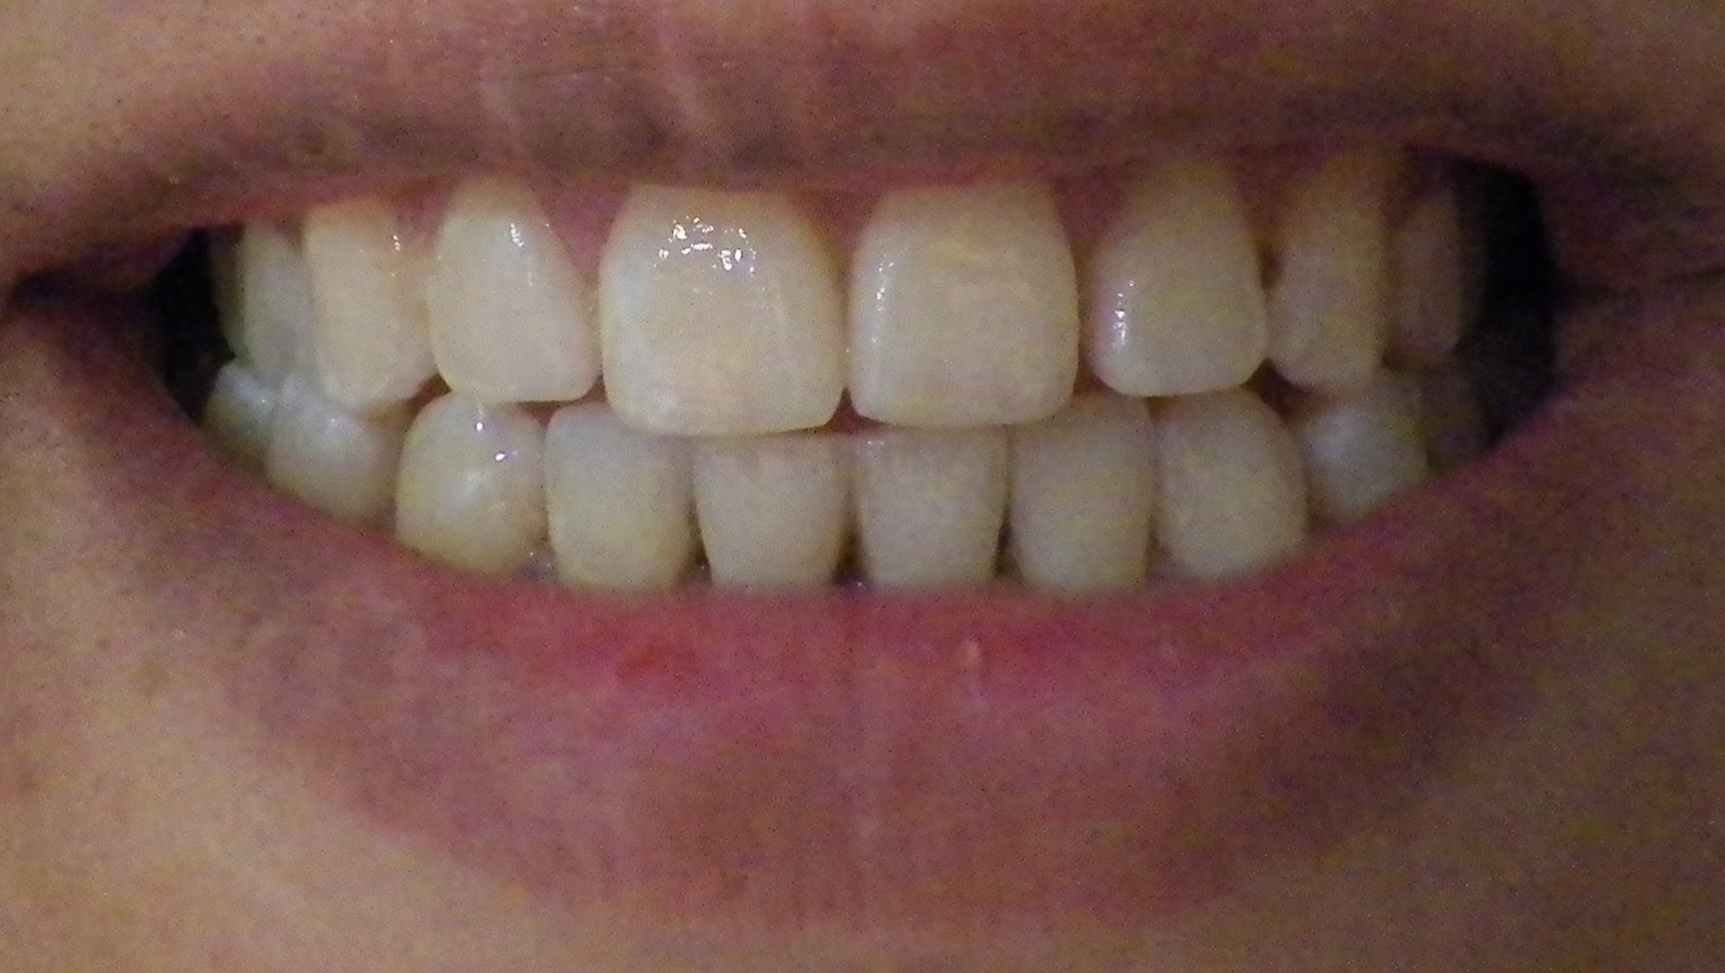boca: (220, 181, 1513, 583)
